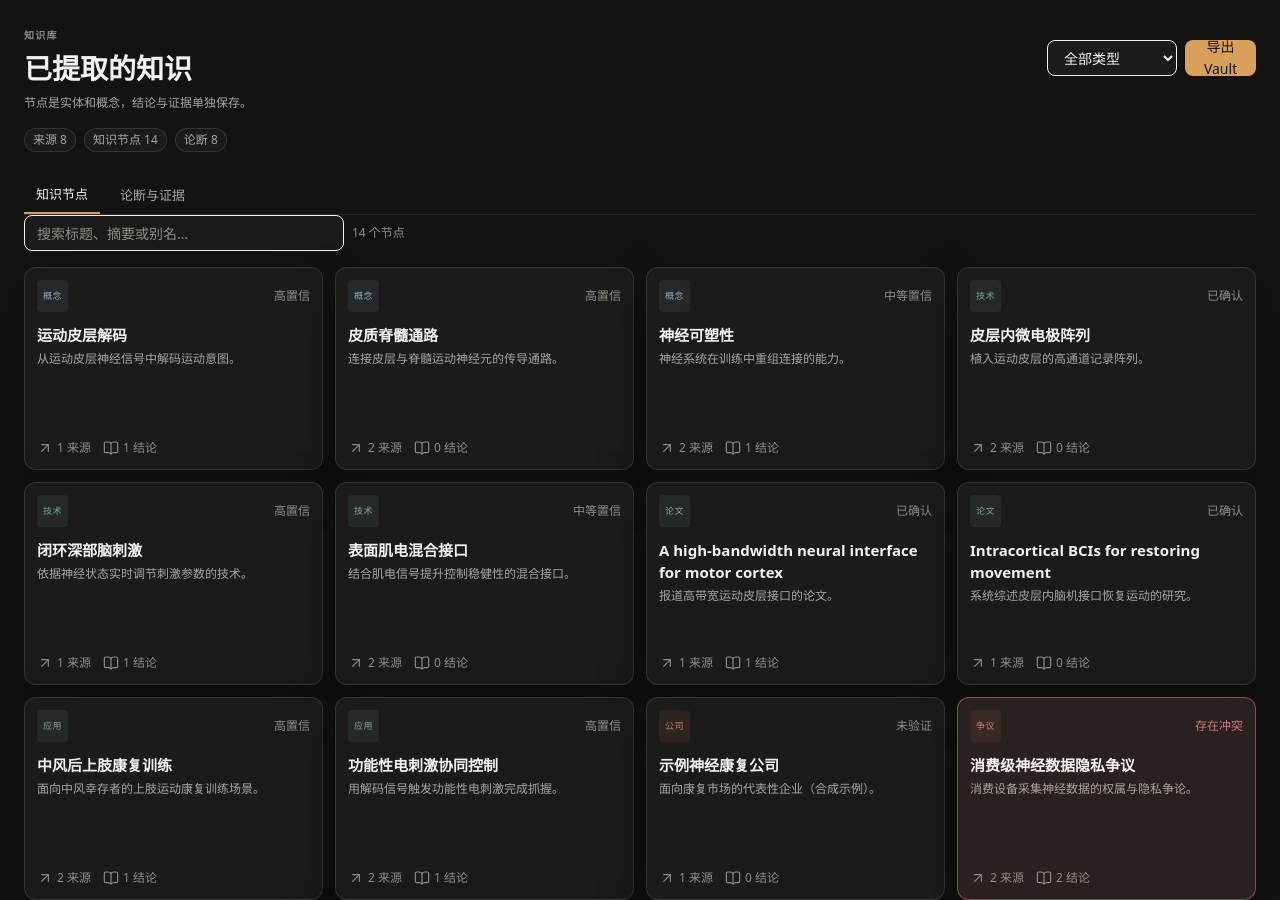
Test: KnowledgePage prototype alignment › keeps 导出 Vault enabled and filters cards through the type select
Expected: the button "导出 Vault" is enabled, [1185,40,1256,76]
Step 1. Select "争议" in the dropdown named "筛选类型" → (1112, 58), box [1047,40,1177,76]
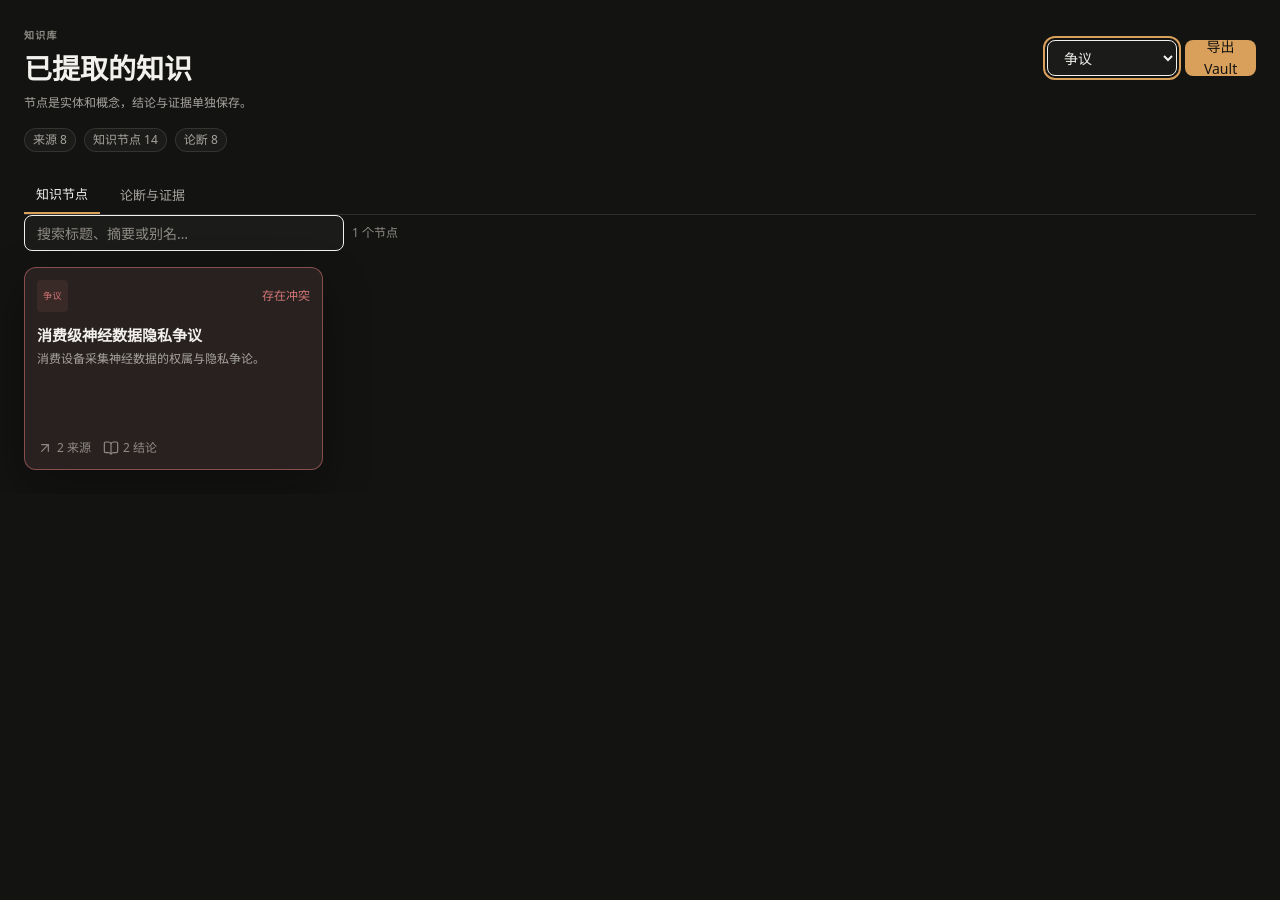
Expected: the number of elements with test id "knowledge-card-conflict" is 1, [24,267,323,470]
Now the element with test id "knowledge-card" is gone
